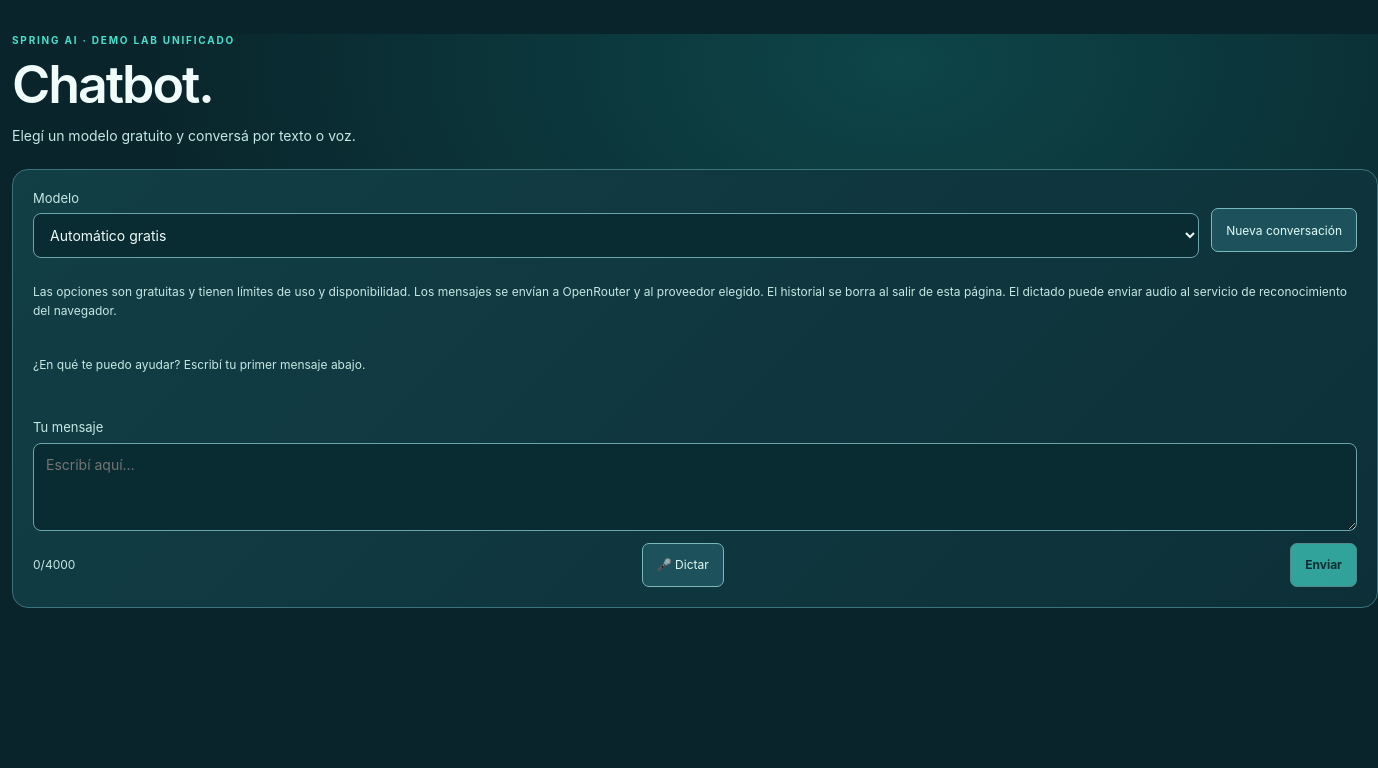
Test: preserves draft after provider error
Type "Hola" into the text box labelled "Tu mensaje".
click(695, 487); type("Hola")  # box [33,443,1357,531]
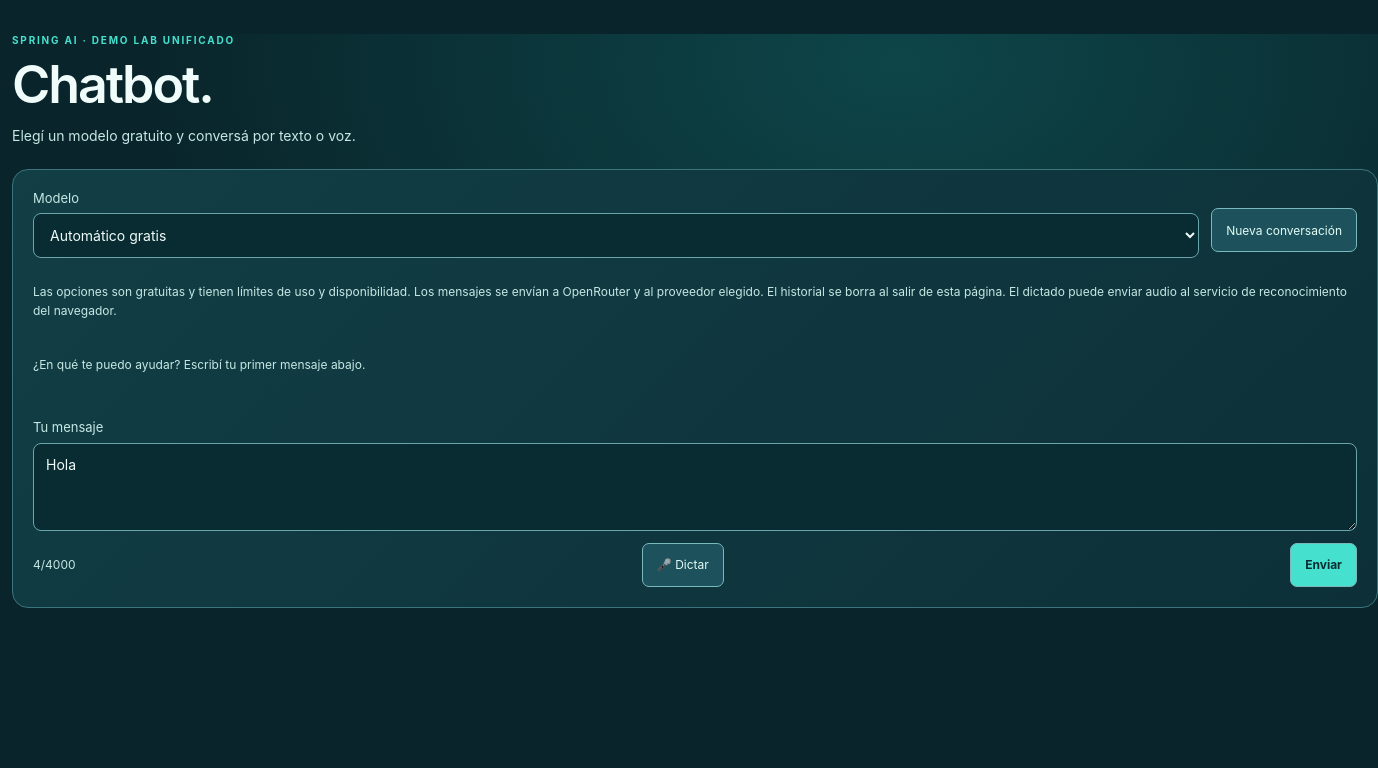
Click the button "Enviar".
click(1324, 565)  # box [1290,543,1357,587]
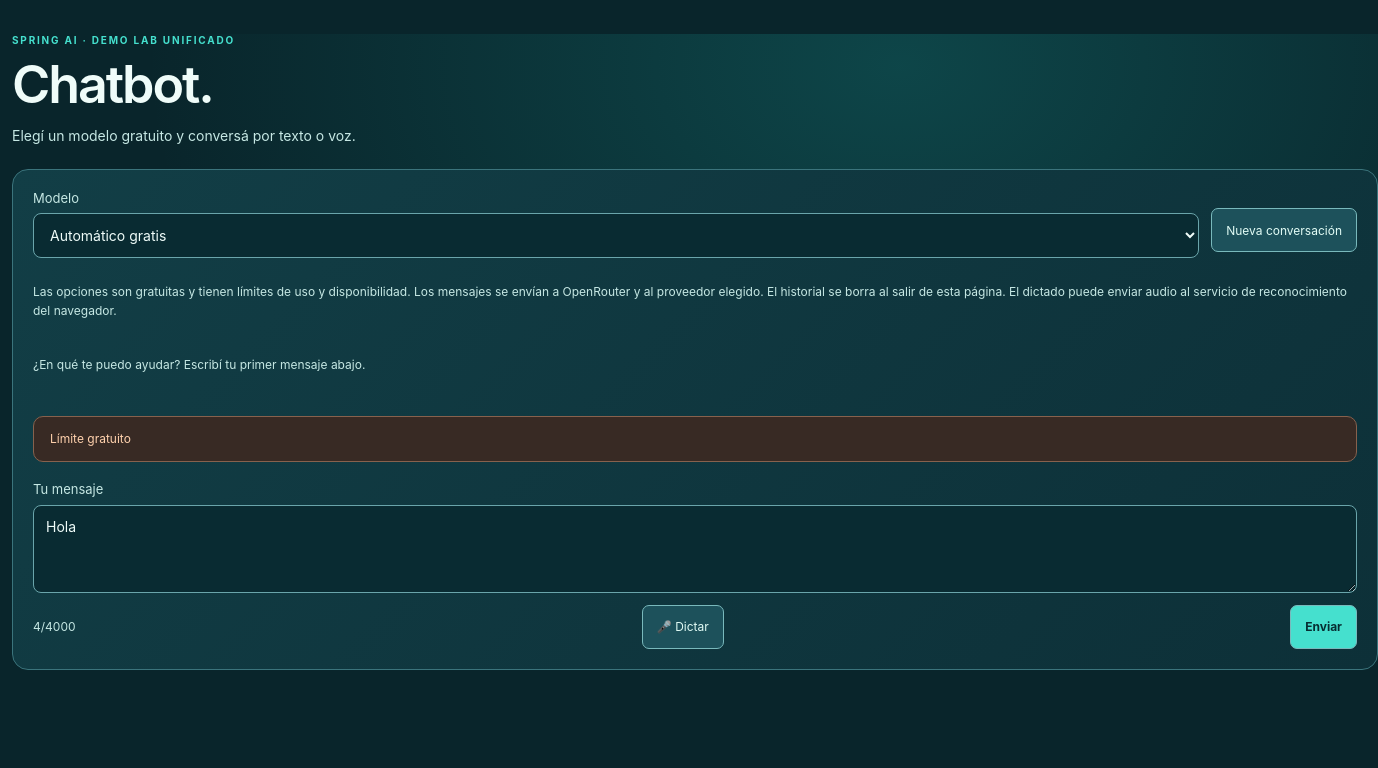
Expected: the message reads "Límite gratuito", [50,431,131,446]
